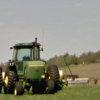Tractor: (8, 32, 71, 100)
